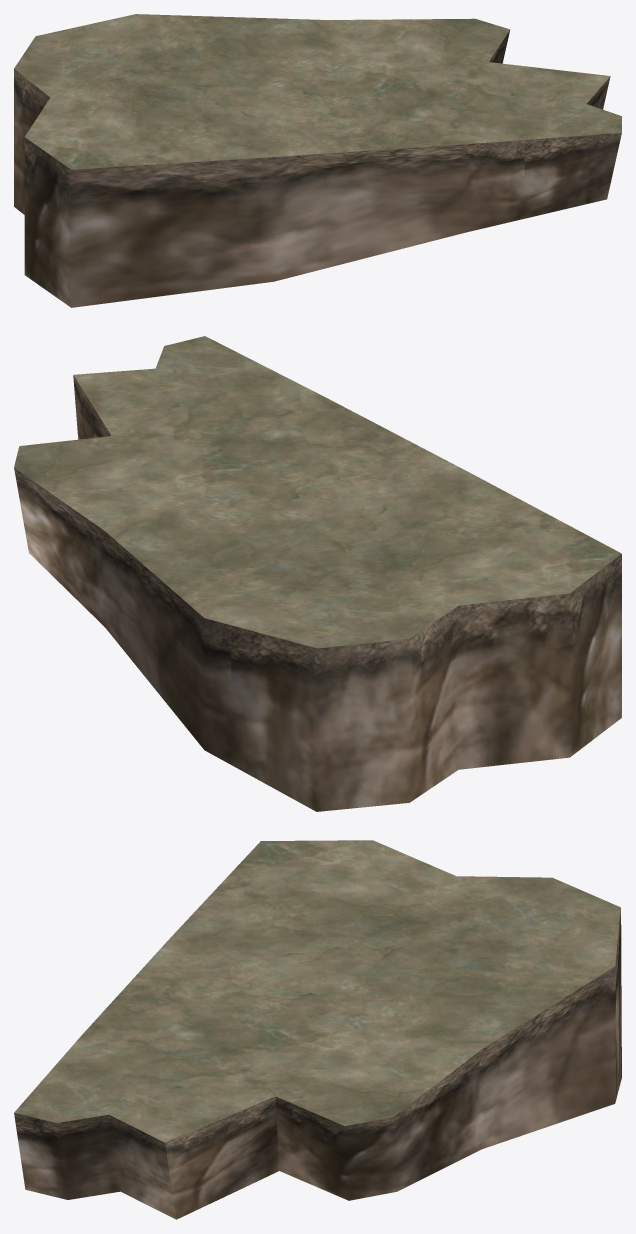
Rendered from ANIMATEDINSTANCES_ROCKFALL_601__AI.fbx.
3 renders of one model, top to bottom at view 1: azimuth 30°, elevation 25°; view 2: azimuth 150°, elevation 25°; view 3: azimuth 270°, elevation 25°, orthographic. The views are drawn at different scales.
Parts seen in each view (by area): view 1: ANIMATEDINSTANCES_ROCKFALL_601__AI; view 2: ANIMATEDINSTANCES_ROCKFALL_601__AI; view 3: ANIMATEDINSTANCES_ROCKFALL_601__AI.
Part boxes in pixels (bbox=[...]): ANIMATEDINSTANCES_ROCKFALL_601__AI: bbox=[14, 14, 621, 307]; ANIMATEDINSTANCES_ROCKFALL_601__AI: bbox=[14, 336, 621, 811]; ANIMATEDINSTANCES_ROCKFALL_601__AI: bbox=[14, 840, 621, 1219].
Size of the model in its own units: 32588 by 8569 by 27674.
Materials: 2 (2 with a texture image).
